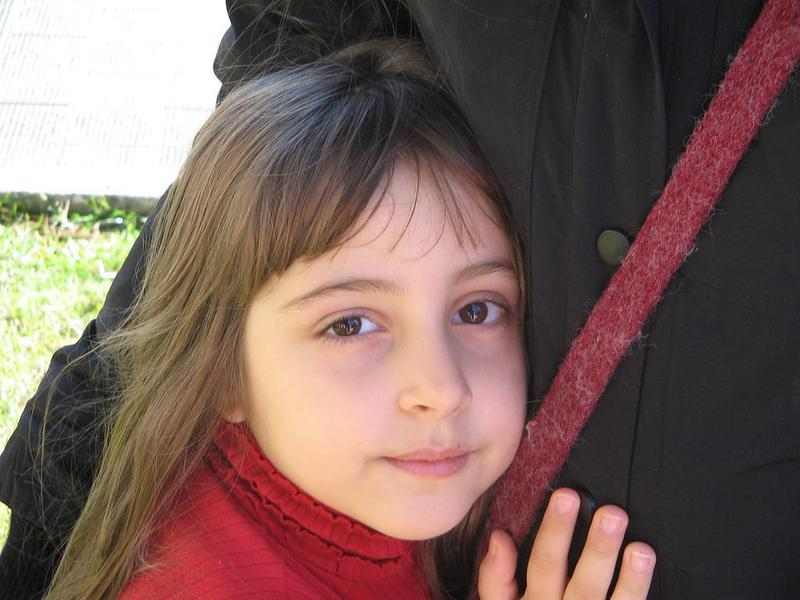person: (46, 50, 653, 600)
